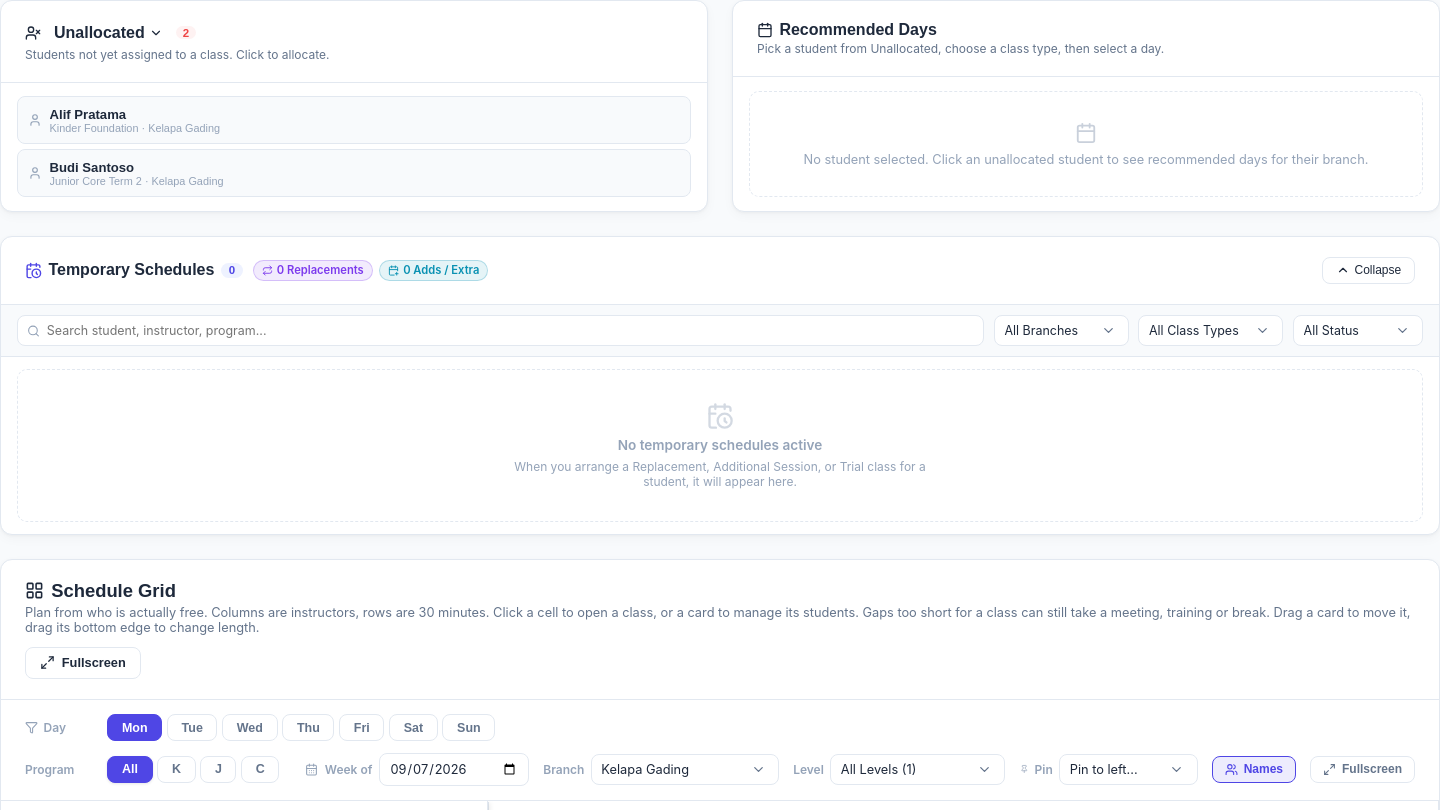
Test: NewSchedulePage - Program and Term Locking › locks Program and Term dropdowns when student is selected in Add Class modal
// Click on Alif Pratama in Unallocated panel
What coordinates should you click on to do the following:
click the text "Alif Pratama"
I would click on:
 (88, 114)
Its box is [50, 107, 126, 122].
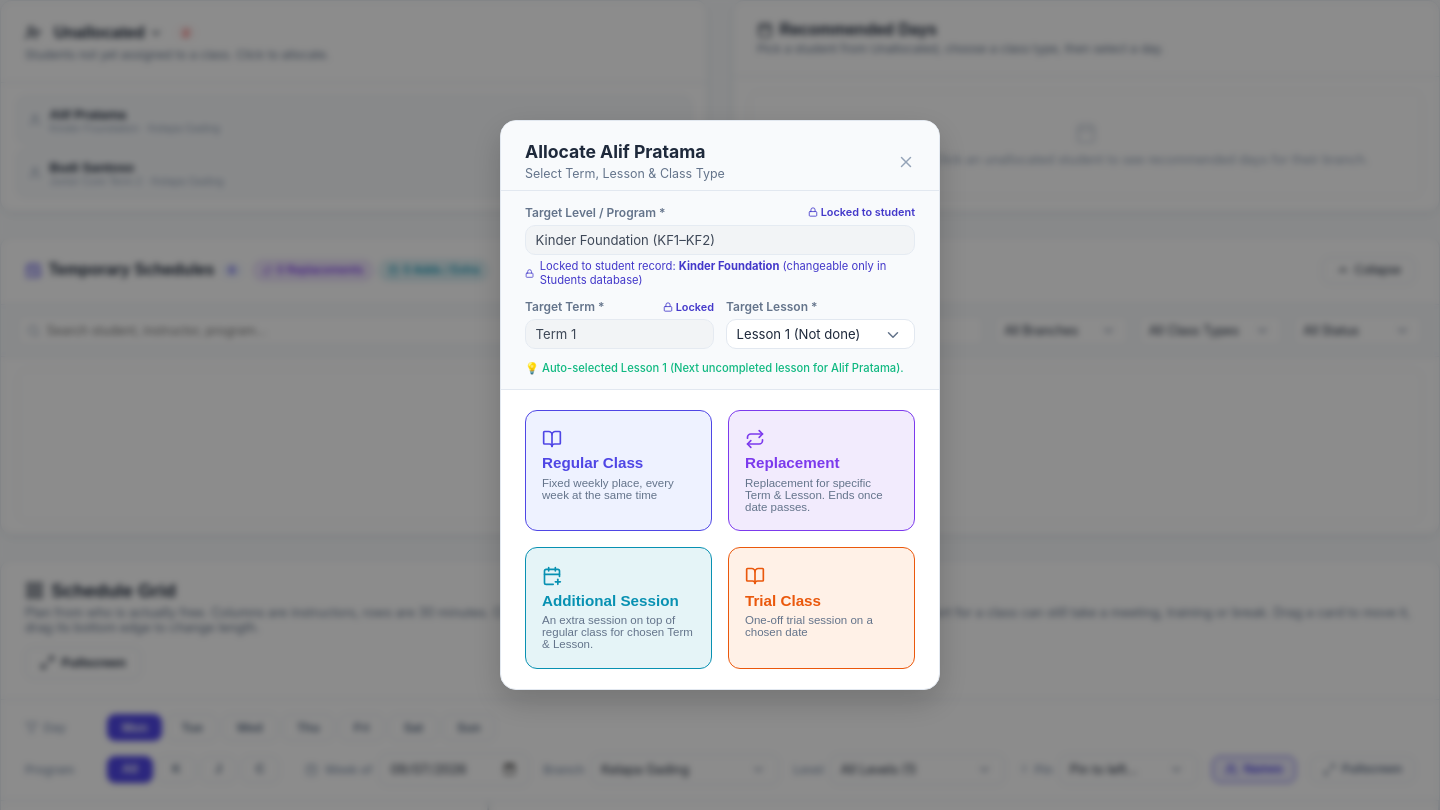
// Click on Regular Class in the chooser
What coordinates should you click on to do the following:
click the button "Regular Class"
I would click on:
 (618, 471)
Its box is [525, 410, 712, 531].
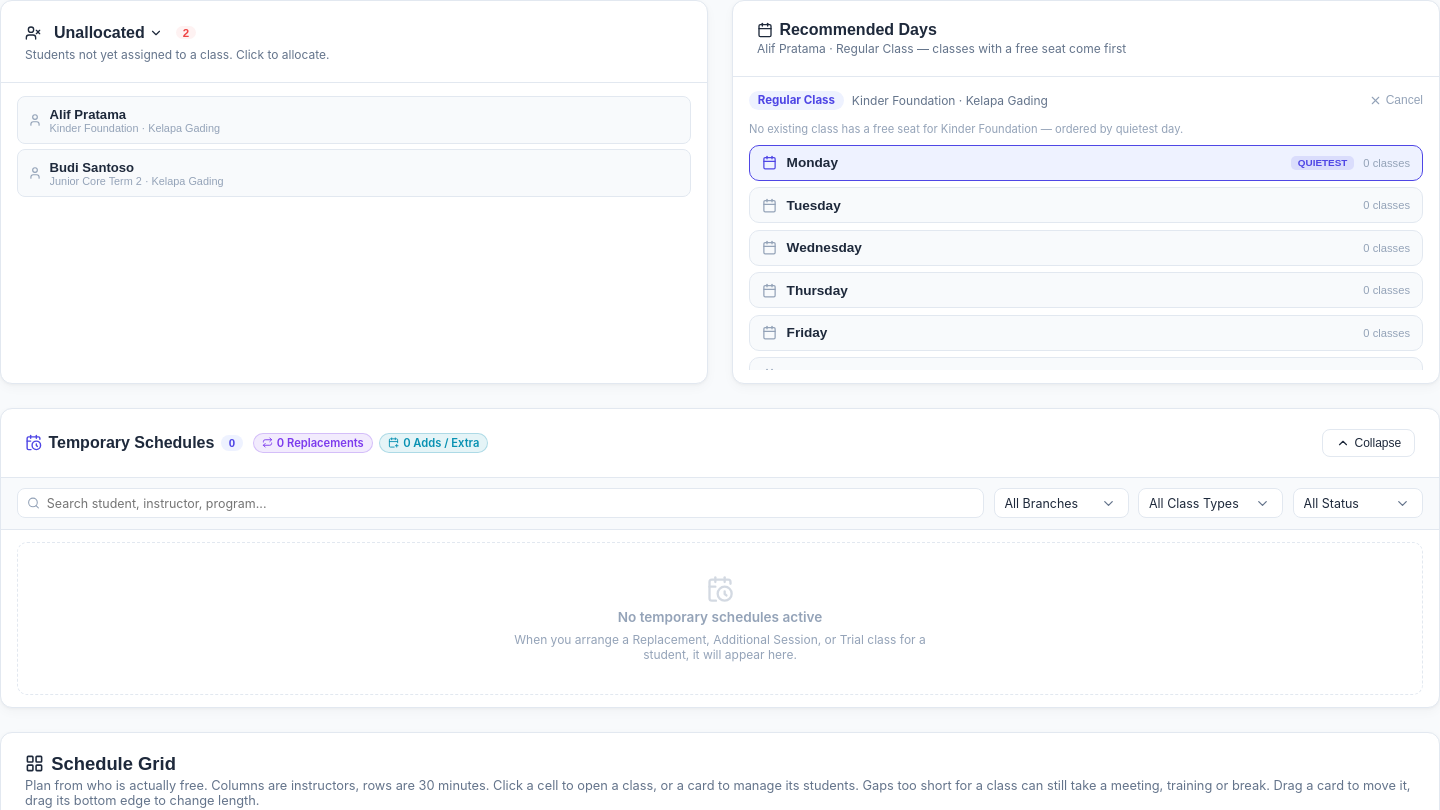
// Click on Monday
What coordinates should you click on to do the following:
click the text "Monday"
I would click on:
 (812, 163)
Its box is [787, 155, 838, 170].
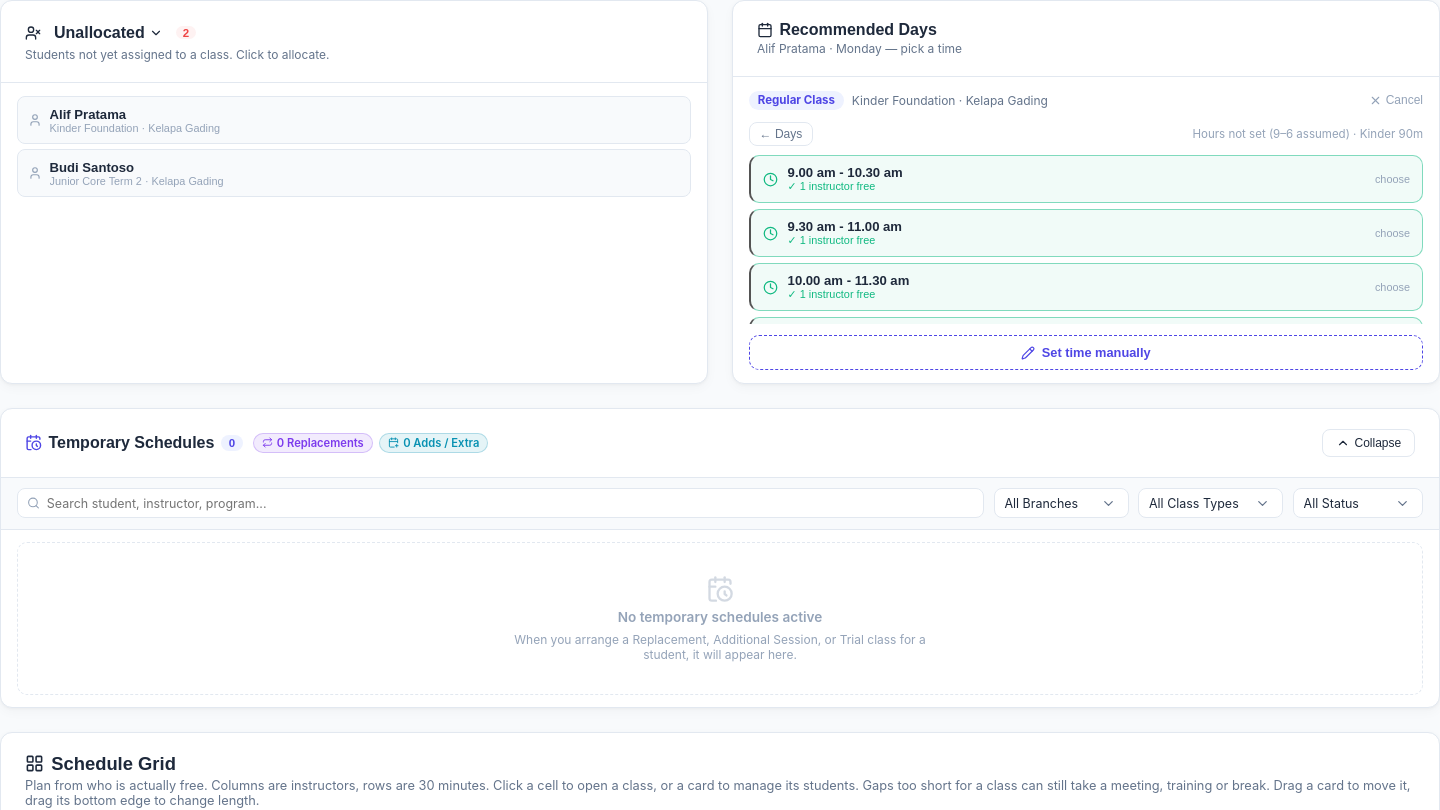
// Click "Set time manually" to open the form
What coordinates should you click on to do the following:
click the button "Set time manually"
I would click on:
 (1086, 352)
Its box is [749, 335, 1423, 370].
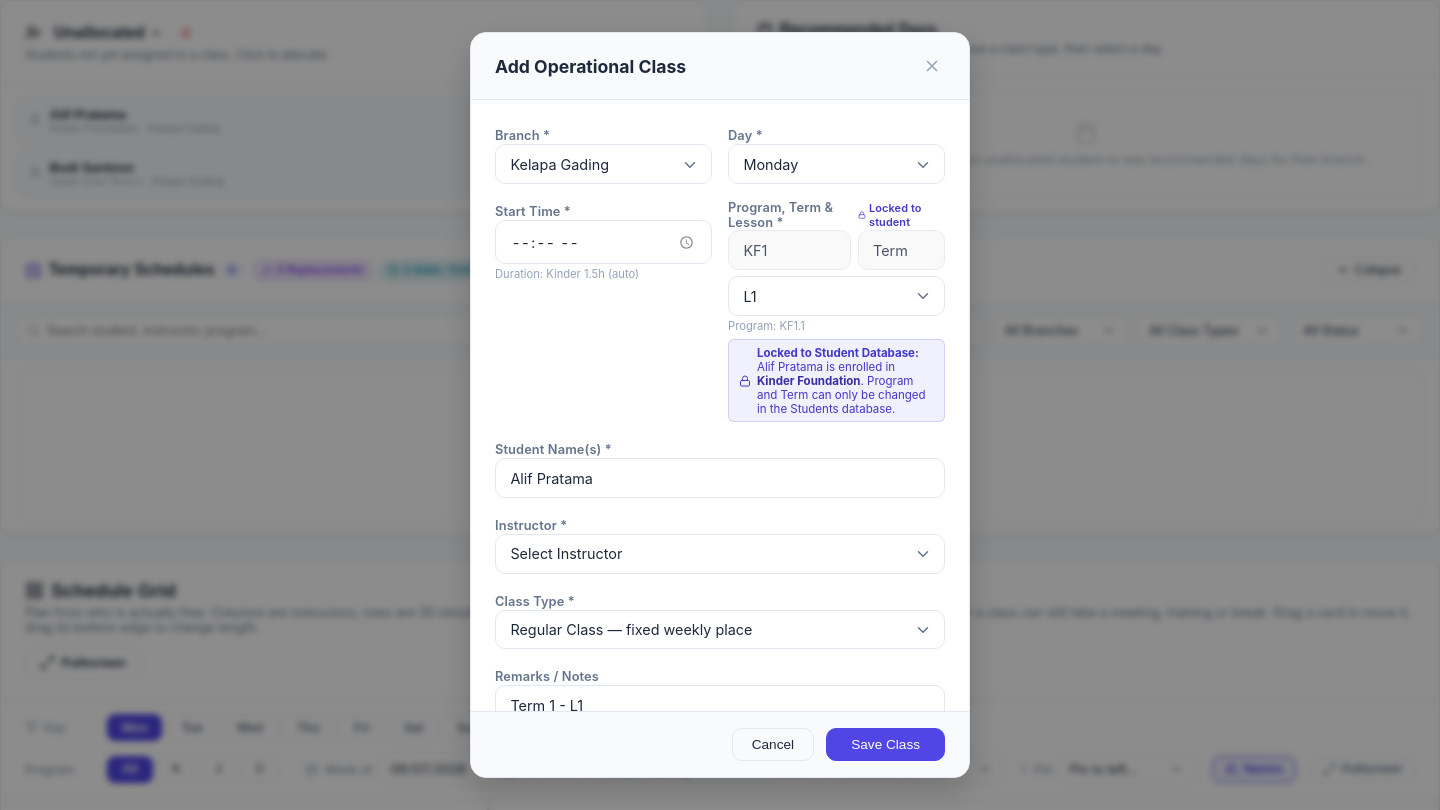
Expected: the heading "Add Operational Class" is shown, [495, 56, 686, 77]
Expected: the text "Locked to Student Database:" is shown, [757, 346, 919, 360]
Expected: the dropdown titled "Program is locked to student's enrolled level in database" is disabled, [728, 230, 851, 270]
